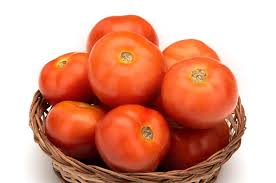tomato: (85, 32, 161, 102), (156, 55, 236, 116), (101, 104, 166, 166), (44, 97, 112, 153), (32, 47, 99, 103)
